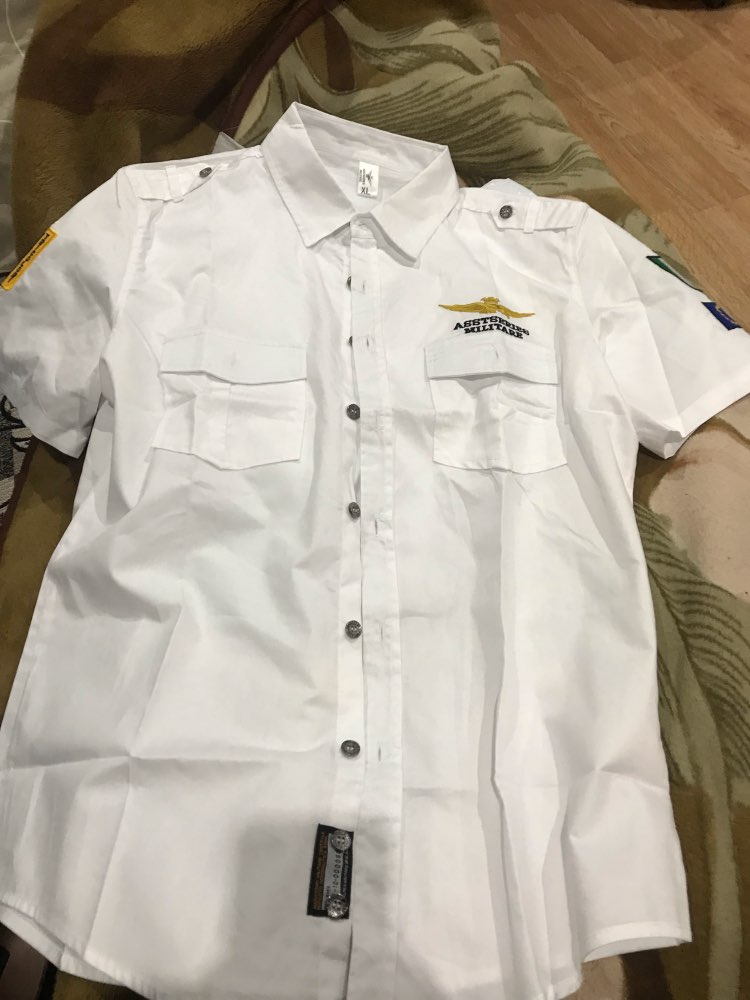shirts: (18, 115, 750, 996)
